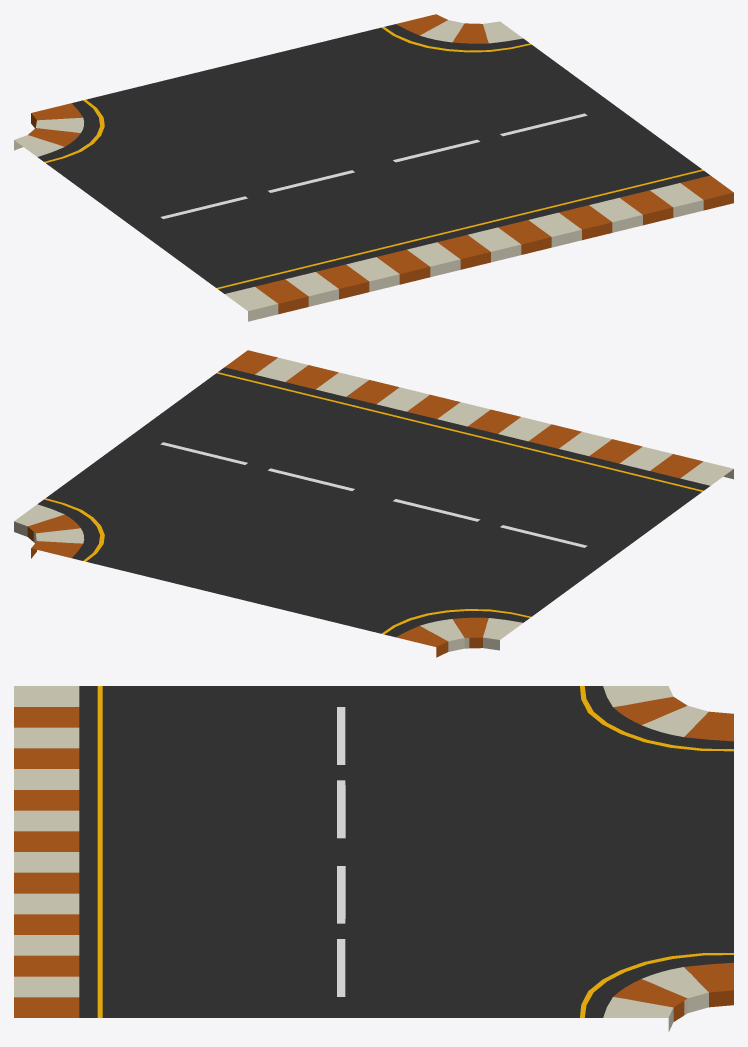
File: SM_Road_08_A.fbx
The picture shows the model from 3 angles, top to bottom: view 1: azimuth 30°, elevation 25°; view 2: azimuth 150°, elevation 25°; view 3: azimuth 270°, elevation 25°; orthographic projection. The views are drawn at different scales.
Parts seen in each view (by area): view 1: SM_Road_08_A_LOD0; view 2: SM_Road_08_A_LOD0; view 3: SM_Road_08_A_LOD0.
Boxes of the visible parts, bbox=[...] form: SM_Road_08_A_LOD0: bbox=[14, 14, 733, 321]; SM_Road_08_A_LOD0: bbox=[14, 350, 733, 657]; SM_Road_08_A_LOD0: bbox=[14, 686, 733, 1031].
Size of the model in its own units: 1200 by 1100 by 25.
1 material, 1 textured.
